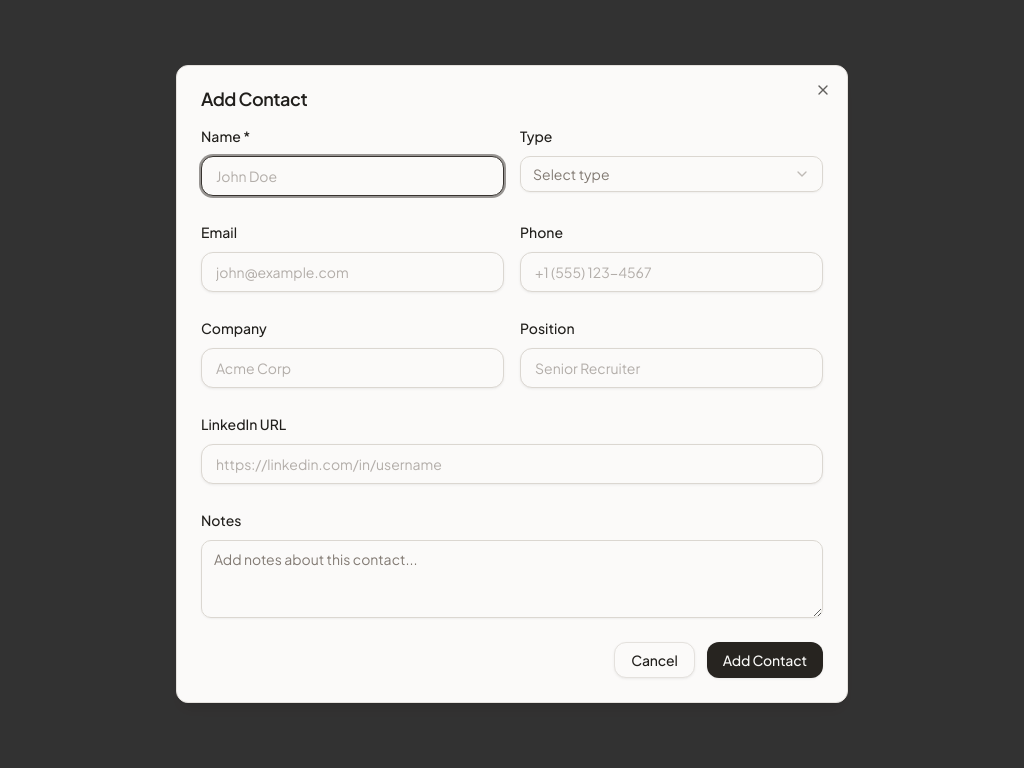
ContactFormDialog › Form Validation › should show error when name is empty
Click the button "Add Contact" at (765, 660), box [707,642,823,678]
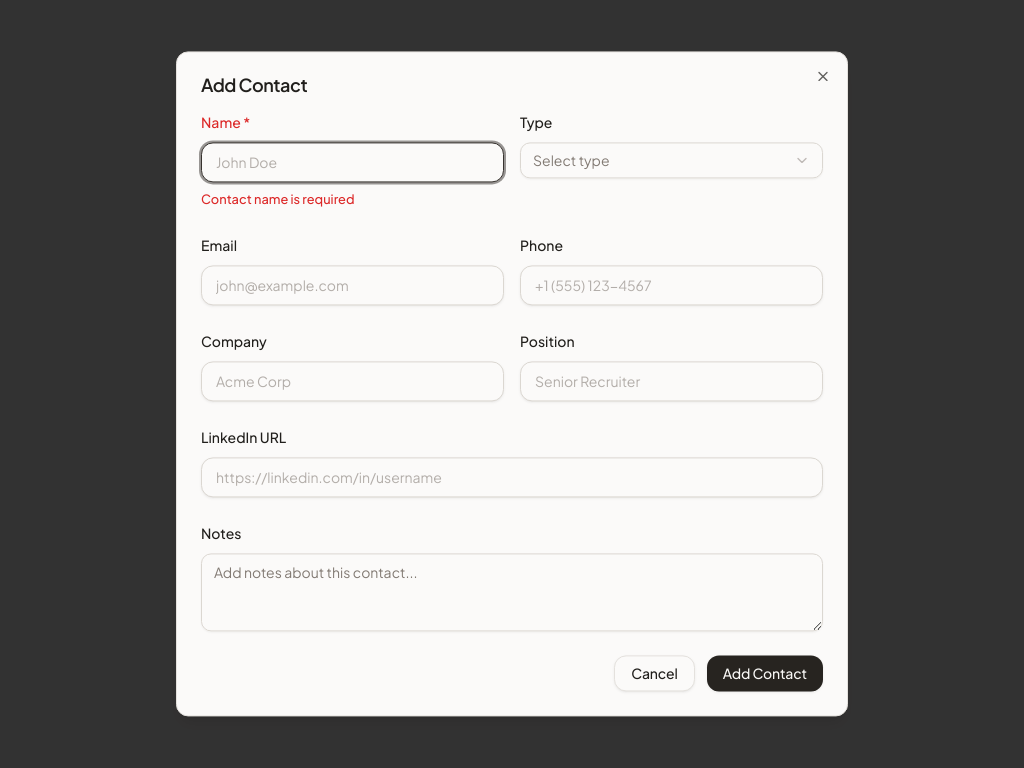
Now the text "Contact name is required" is shown, box [201,191,354,207]
